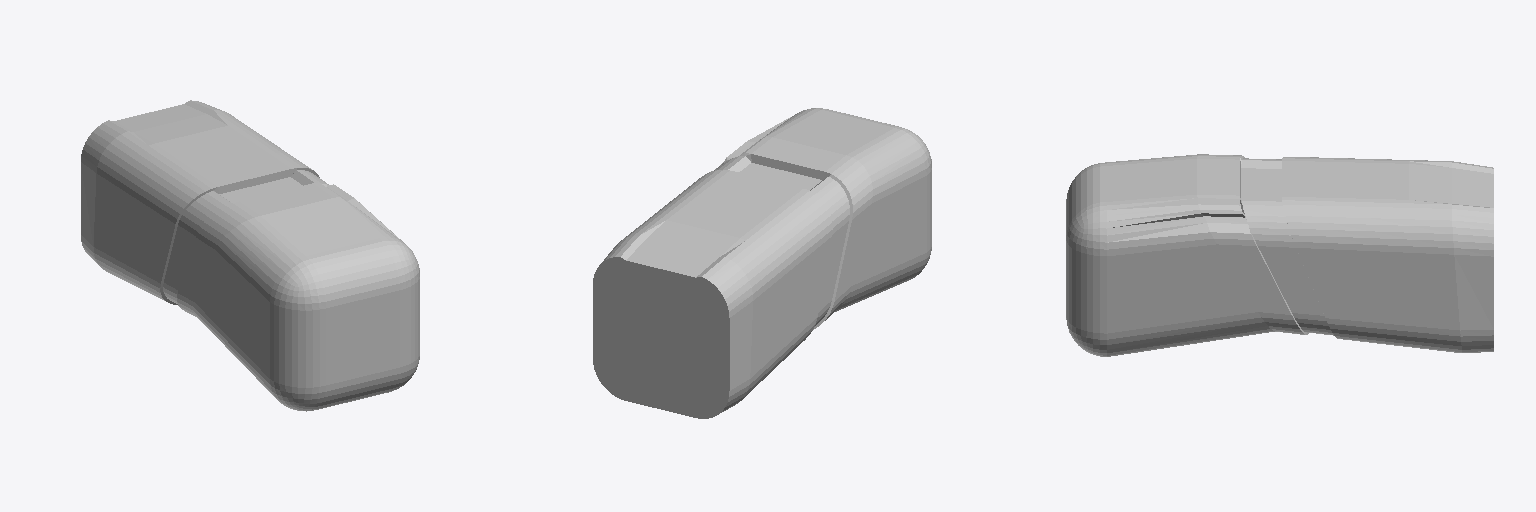
File: nahodkachuk.obj
3 renders of one model, left to right at view 1: azimuth 30°, elevation 25°; view 2: azimuth 150°, elevation 25°; view 3: azimuth 270°, elevation 25°, orthographic.
Visible parts, largest first — view 1: Cube_Cube.001; view 2: Cube_Cube.001; view 3: Cube_Cube.001.
Part boxes in pixels (left/top/right/bottom): Cube_Cube.001: left=81, top=100, right=419, bottom=411; Cube_Cube.001: left=593, top=108, right=931, bottom=418; Cube_Cube.001: left=1066, top=154, right=1493, bottom=356.
Bounding box in the file's own units: 2 × 2.1 × 5.12.